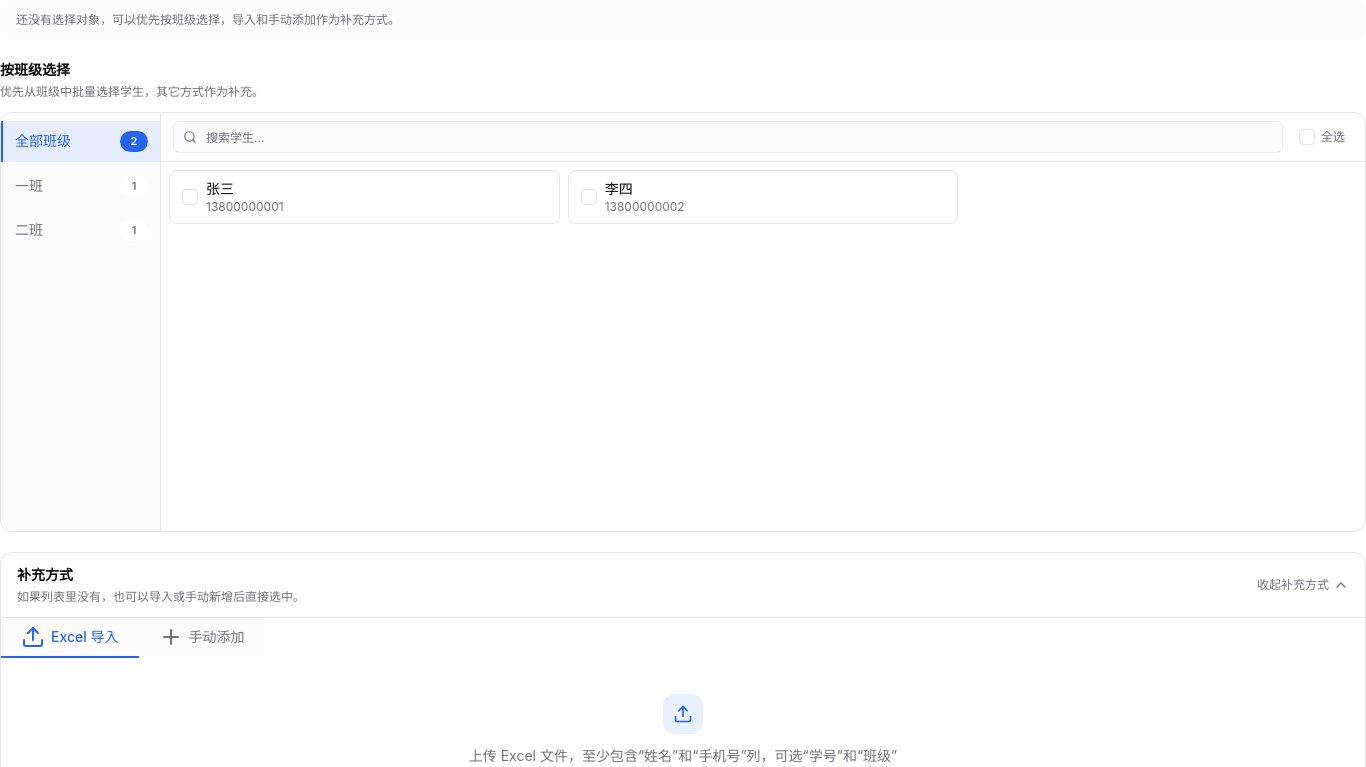
Scenario: StudentSelector › autofills phone, student id, and class when the entered name uniquely matches an existing student
Click the tab "手动添加".
click(202, 638)  # box [138,618,264,658]
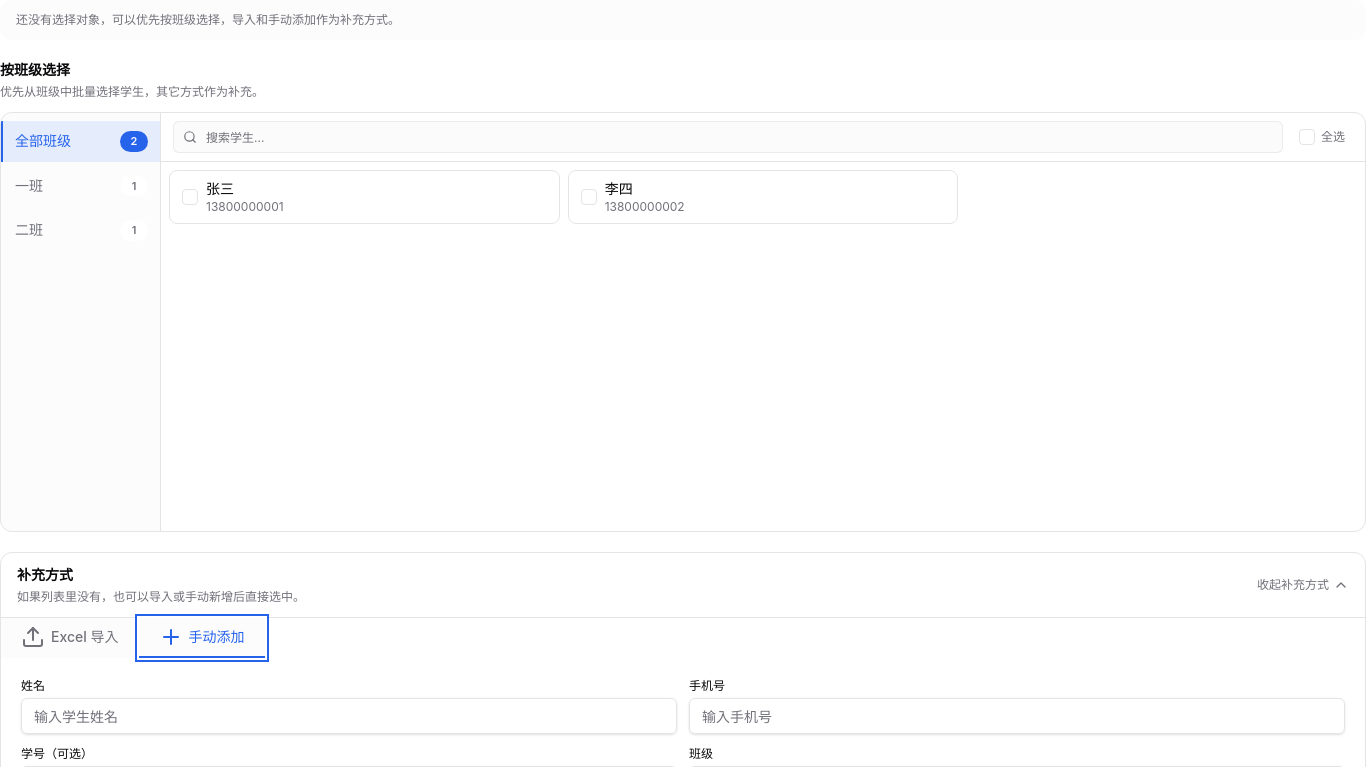
Type "张三" into the field labelled "姓名".
click(349, 716); type("张三")  # box [21,698,677,734]
(page scrolled)
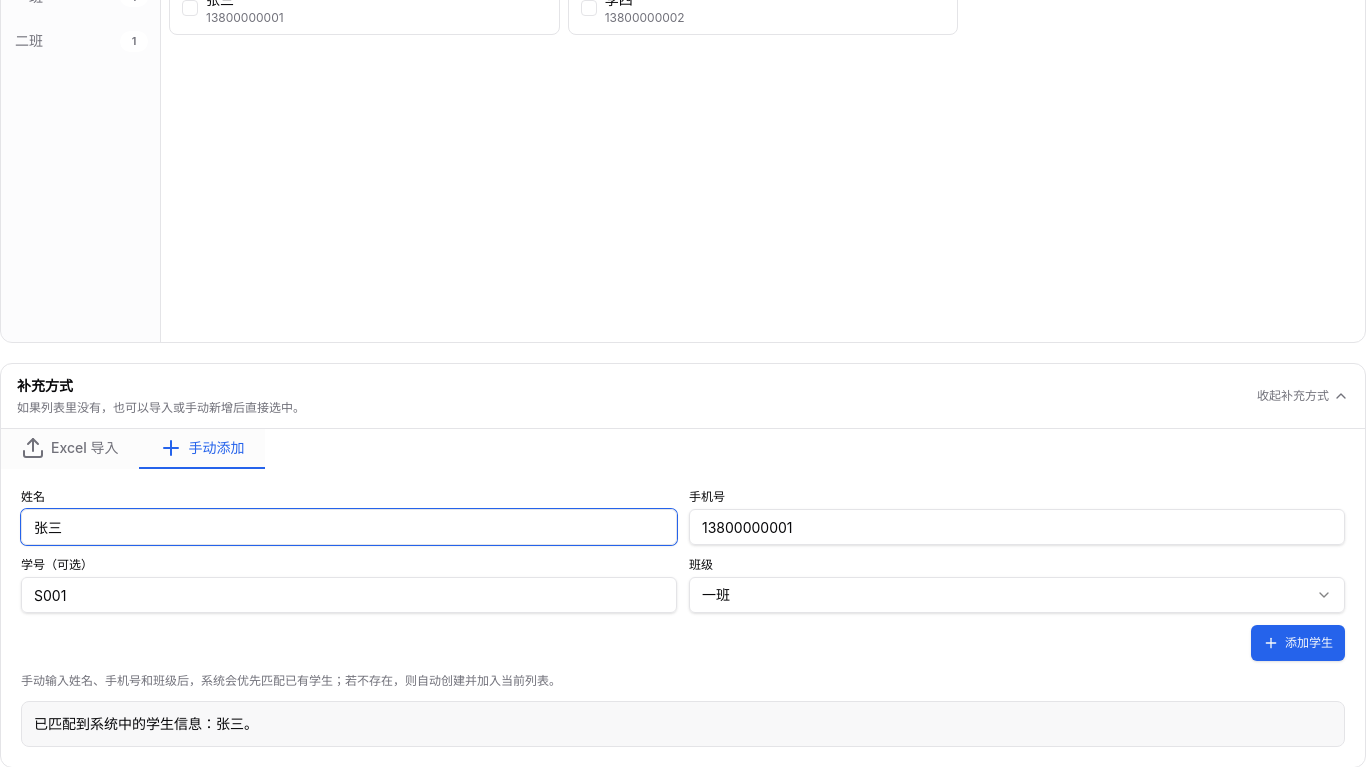
expect the field labelled "手机号" holds "13800000001": met, box [689,509,1345,545]
expect the field labelled "学号（可选）" holds "S001": met, box [21,577,677,613]
expect the dropdown reads "一班": met, box [689,577,1345,613]
